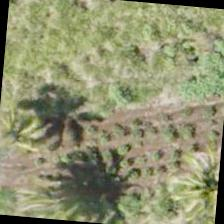Kelapa_Sawit: (0, 85, 92, 183), (32, 152, 129, 223), (162, 144, 221, 223)
